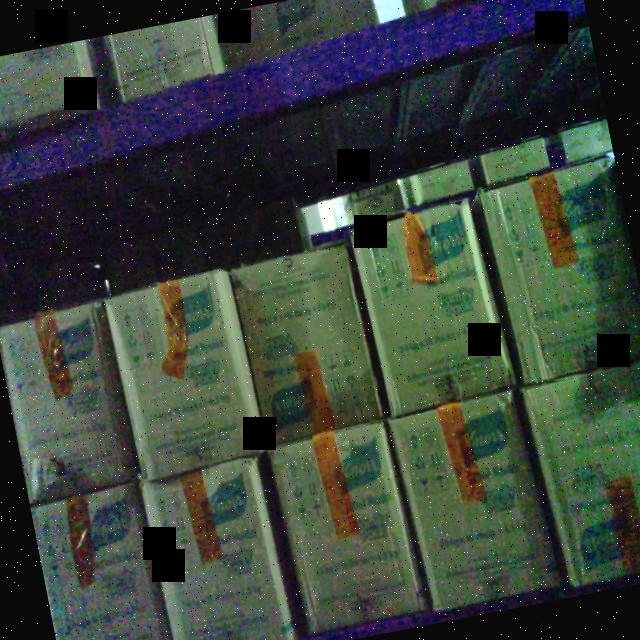box: (384, 387, 567, 626), (349, 194, 524, 423), (476, 163, 640, 391), (262, 419, 430, 640), (100, 266, 268, 486), (229, 240, 388, 454), (136, 453, 306, 640), (0, 297, 139, 508), (519, 356, 640, 598), (29, 480, 178, 640)
